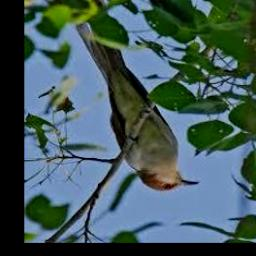Cuckoo: (74, 0, 200, 192)
